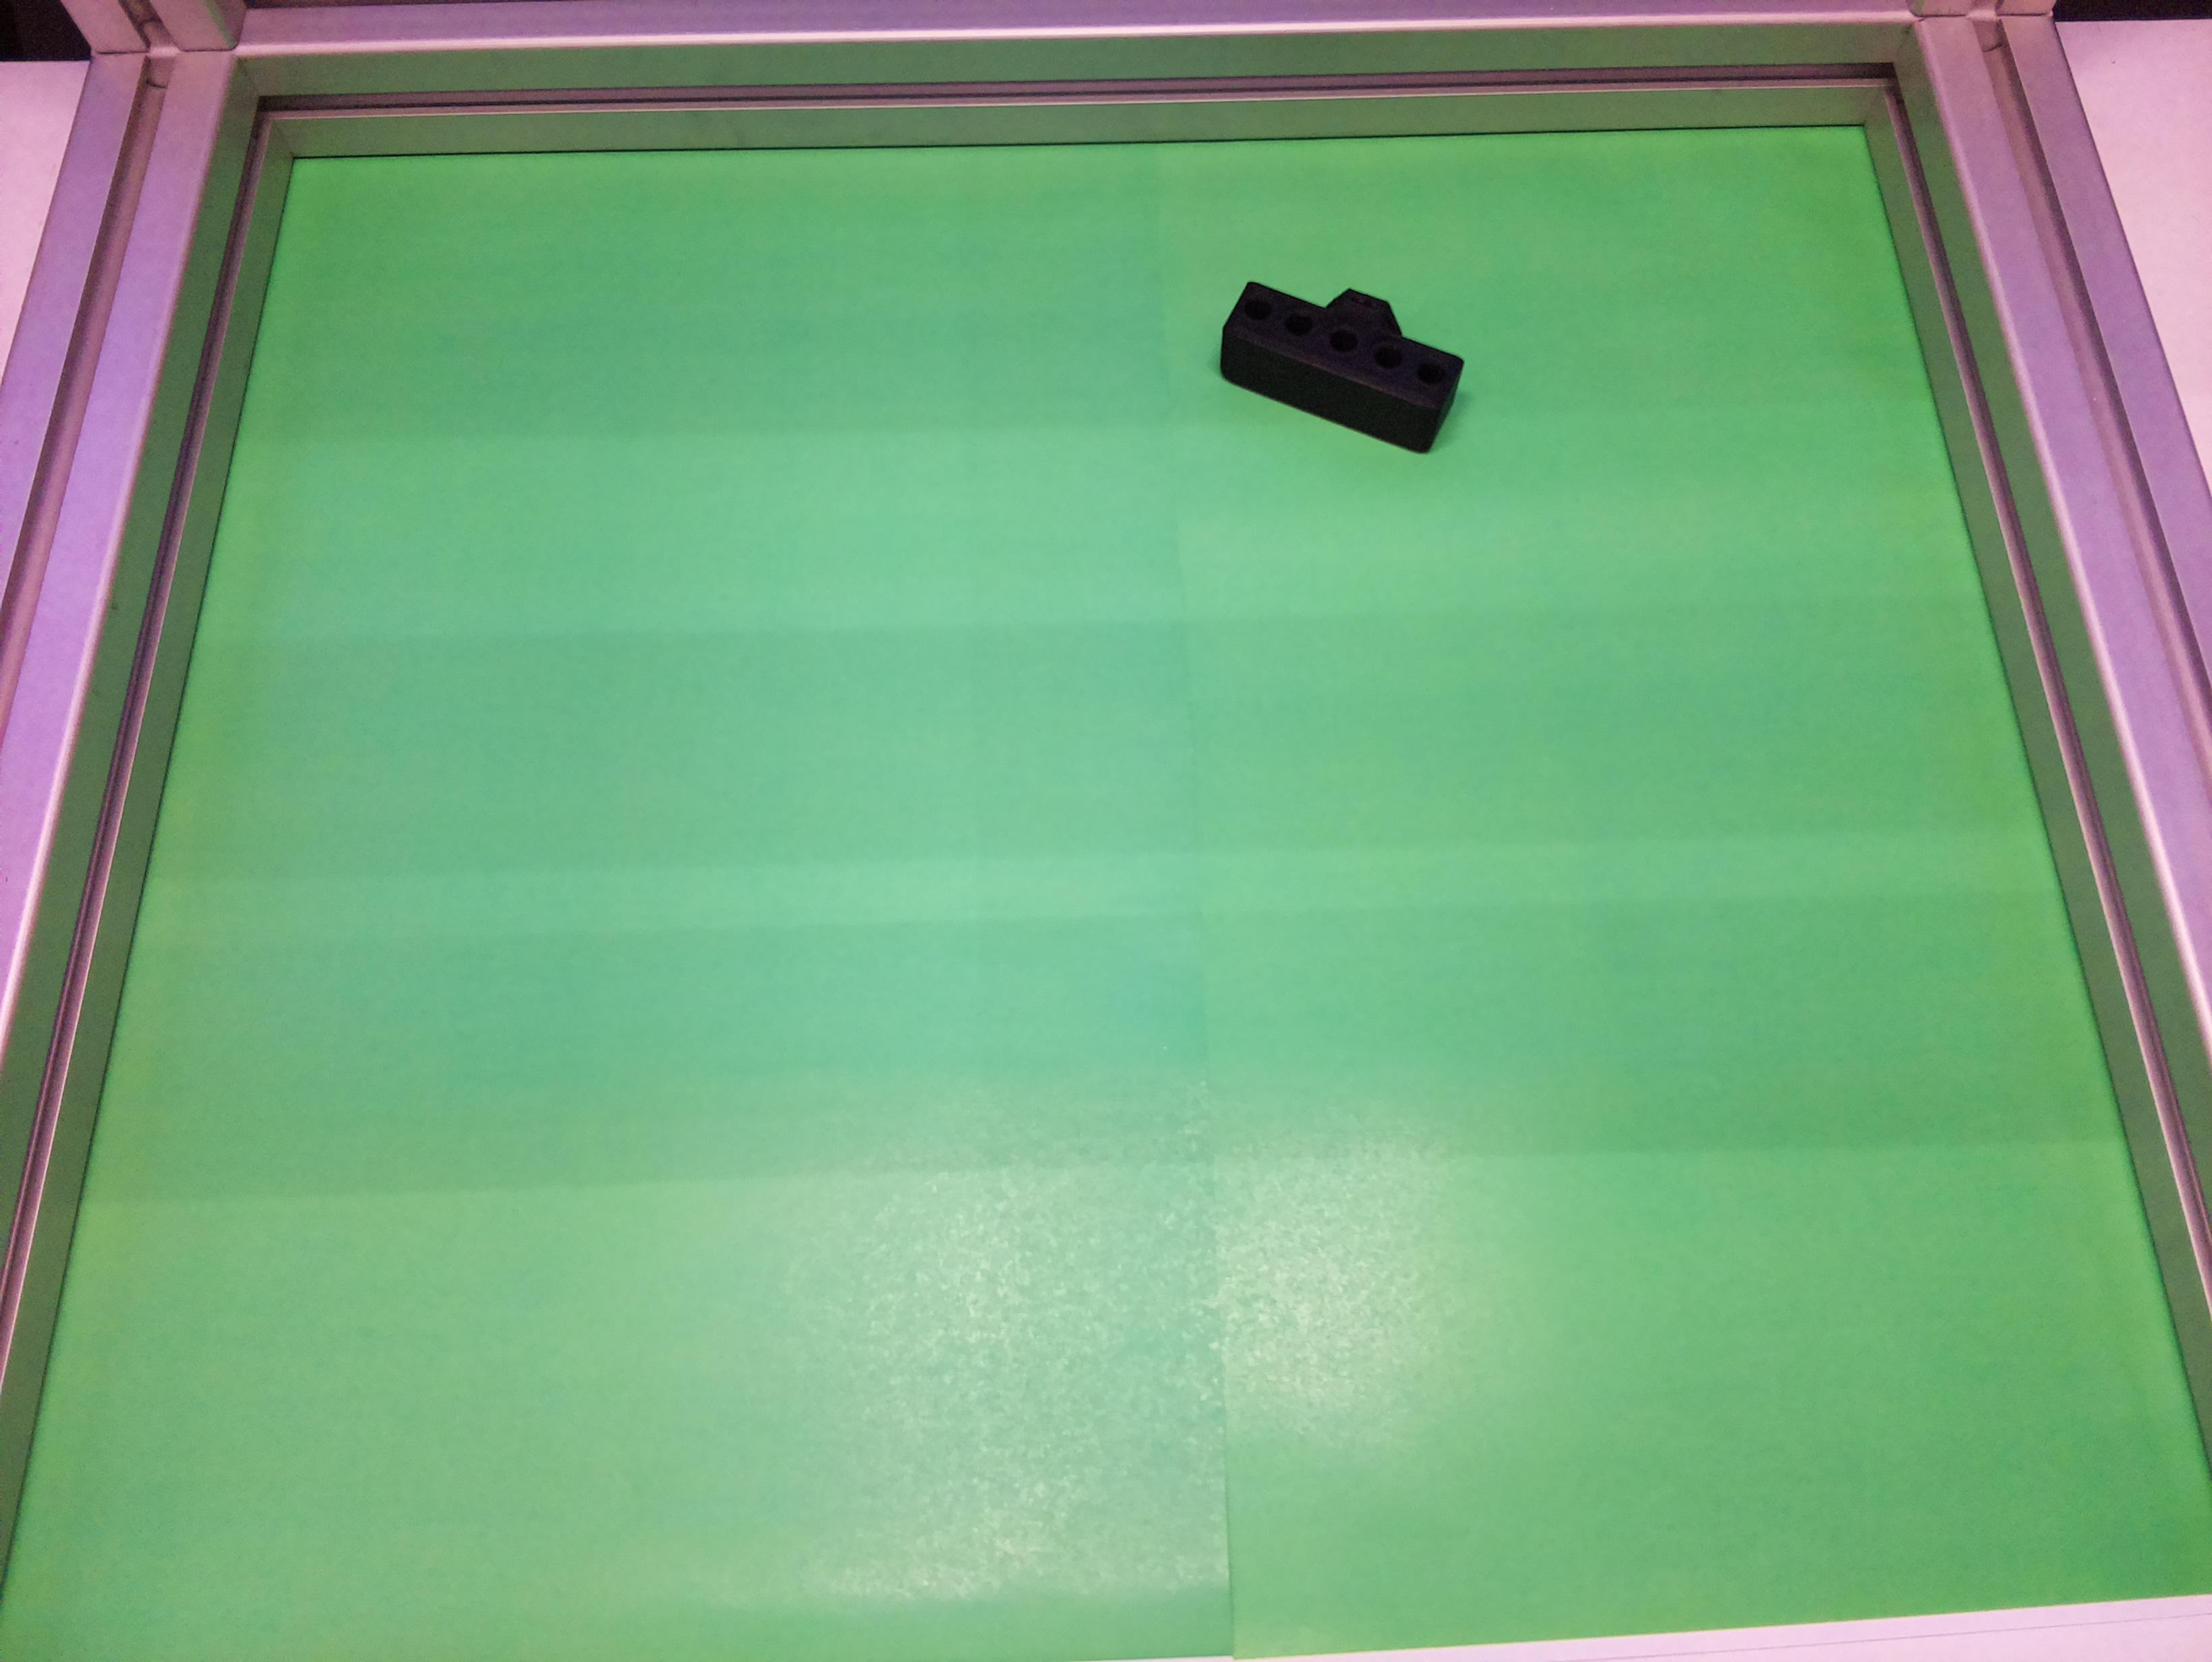bit_holder: (1205, 253, 1477, 459)
